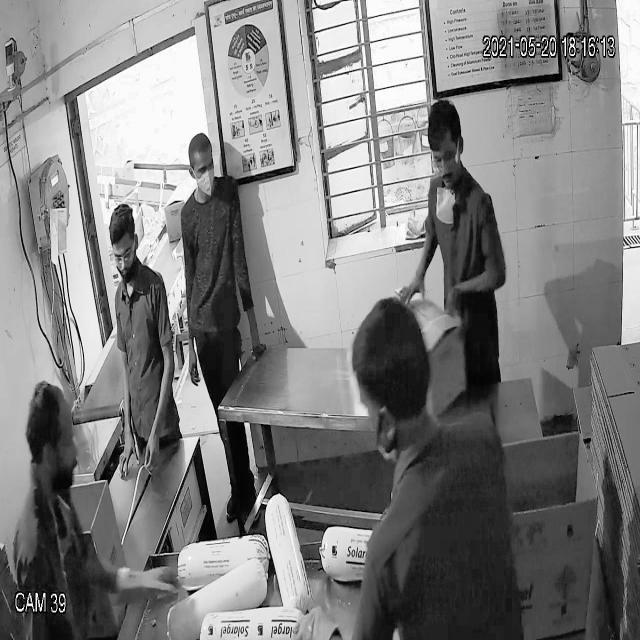glasses: (427, 140, 466, 174), (111, 239, 140, 270)
